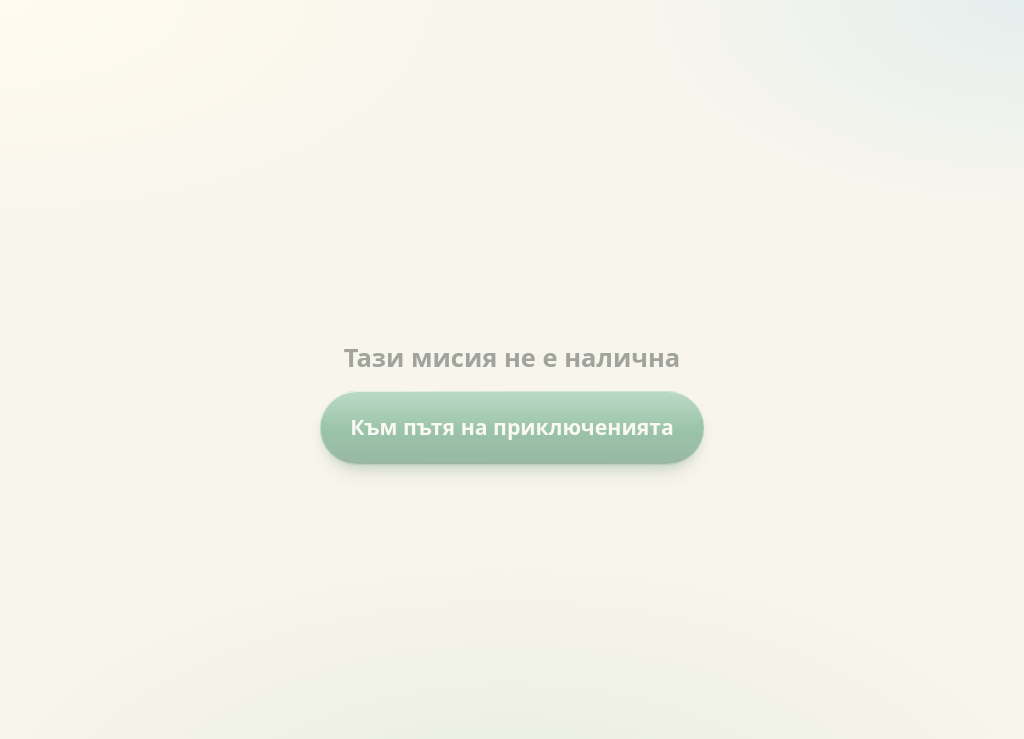
Test case: mission Хан Аспарух (young) › an unknown mission id explains the problem and links back to the list
Expected: the heading "Тази мисия не е налична" is shown, [344,340,680,374]
What coordinates should you click on to do the following:
click the button "Към пътя на приключенията"
I would click on:
 (512, 428)
Its box is [320,391,704,464].
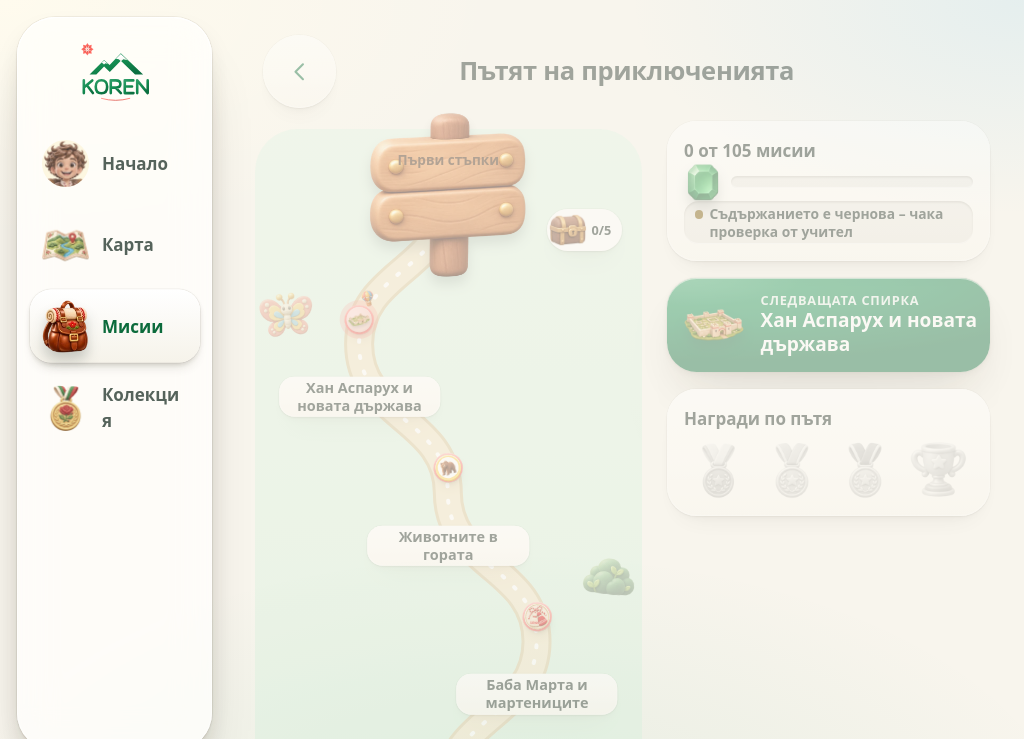
Now the button named "Хан Аспарух" is shown, box [342,302,377,337]
